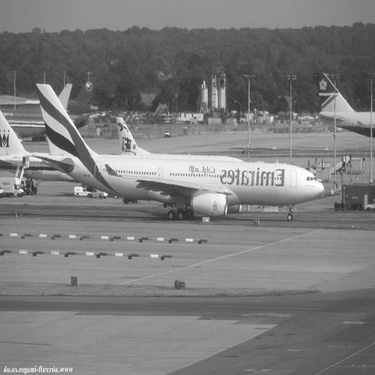airplane: (12, 75, 340, 234), (91, 113, 254, 201), (1, 112, 115, 183), (302, 60, 373, 158), (1, 72, 99, 140)
